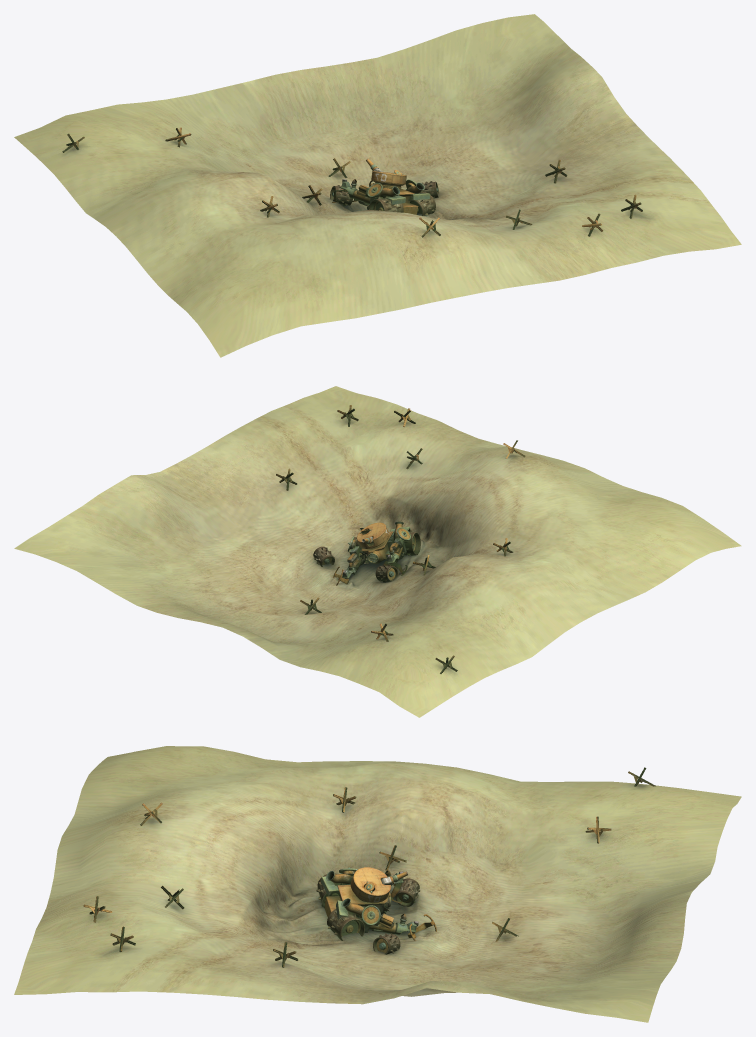
File: testnormals.fbx
The picture shows the model from 3 angles, top to bottom: view 1: azimuth 30°, elevation 25°; view 2: azimuth 150°, elevation 25°; view 3: azimuth 270°, elevation 25°; orthographic projection. The views are drawn at different scales.
Parts seen in each view (by area): view 1: subset0_ground_ID_0_0, subset0_barricade_phong_ID_7_0, subset1_right_engine_phong_ID_6_1, subset2_turret_phong_ID_6_2, subset0_left_engine_phong_ID_6_0; view 2: subset0_ground_ID_0_0, subset0_barricade_phong_ID_7_0, subset1_right_engine_phong_ID_6_1, subset2_turret_phong_ID_6_2, subset0_left_engine_phong_ID_6_0; view 3: subset0_ground_ID_0_0, subset0_left_engine_phong_ID_6_0, subset2_turret_phong_ID_6_2, subset0_barricade_phong_ID_7_0, subset1_right_engine_phong_ID_6_1.
Part boxes in pixels (x1,y1,x2,y2): subset0_ground_ID_0_0: (14, 14, 741, 357); subset0_barricade_phong_ID_7_0: (62, 127, 642, 237); subset1_right_engine_phong_ID_6_1: (330, 179, 405, 212); subset2_turret_phong_ID_6_2: (358, 158, 418, 214); subset0_left_engine_phong_ID_6_0: (369, 179, 438, 215); subset0_ground_ID_0_0: (14, 386, 741, 717); subset0_barricade_phong_ID_7_0: (276, 405, 525, 673); subset1_right_engine_phong_ID_6_1: (375, 521, 420, 582); subset2_turret_phong_ID_6_2: (356, 522, 404, 565); subset0_left_engine_phong_ID_6_0: (313, 528, 364, 585); subset0_ground_ID_0_0: (14, 746, 741, 1022); subset0_left_engine_phong_ID_6_0: (327, 898, 436, 954); subset2_turret_phong_ID_6_2: (324, 867, 408, 931); subset0_barricade_phong_ID_7_0: (83, 767, 655, 967); subset1_right_engine_phong_ID_6_1: (316, 867, 420, 907).
Size of the model in its own units: 53.98 by 8.31 by 54.08.
Materials: 5 (5 with a texture image).
